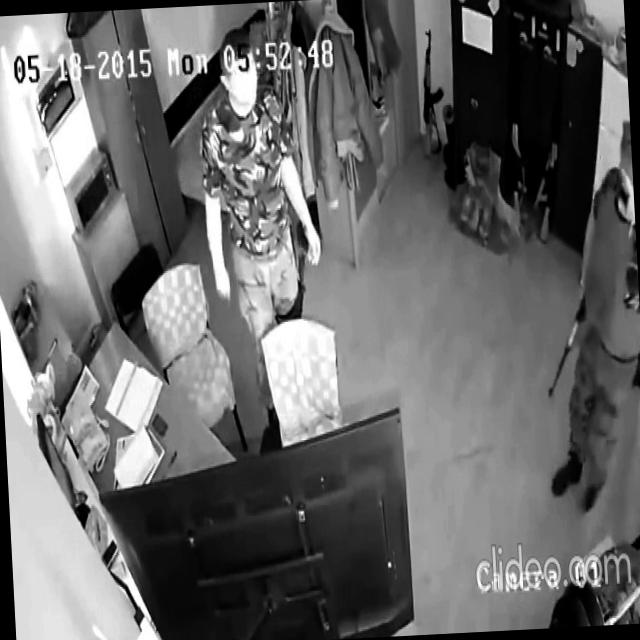gun: (529, 87, 574, 244), (539, 282, 593, 402), (504, 72, 540, 238), (417, 24, 449, 163)
person: (194, 24, 333, 442)
person with a gun: (530, 115, 640, 520)
